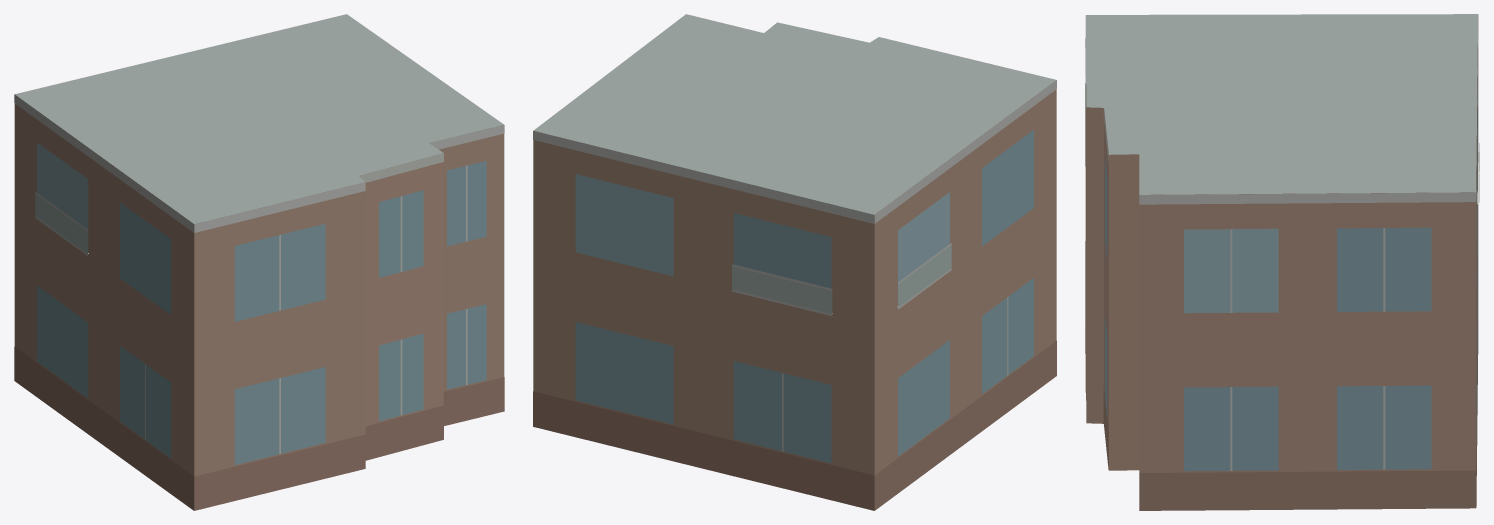
File: survey-upis-32638648.glb
3 views of the same model, side by side, from view 1: azimuth 30°, elevation 25°; view 2: azimuth 150°, elevation 25°; view 3: azimuth 270°, elevation 25° (orthographic). The views are drawn at different scales.
Parts seen in each view (by area): view 1: survey-upis-32638648.tmp; view 2: survey-upis-32638648.tmp; view 3: survey-upis-32638648.tmp.
Boxes of the visible parts, x1=… form: survey-upis-32638648.tmp: x1=14, y1=14, x2=504, y2=510; survey-upis-32638648.tmp: x1=533, y1=14, x2=1056, y2=510; survey-upis-32638648.tmp: x1=1085, y1=14, x2=1479, y2=510.
Bounding box in the file's own units: 9.73 × 7.9 × 8.94.
